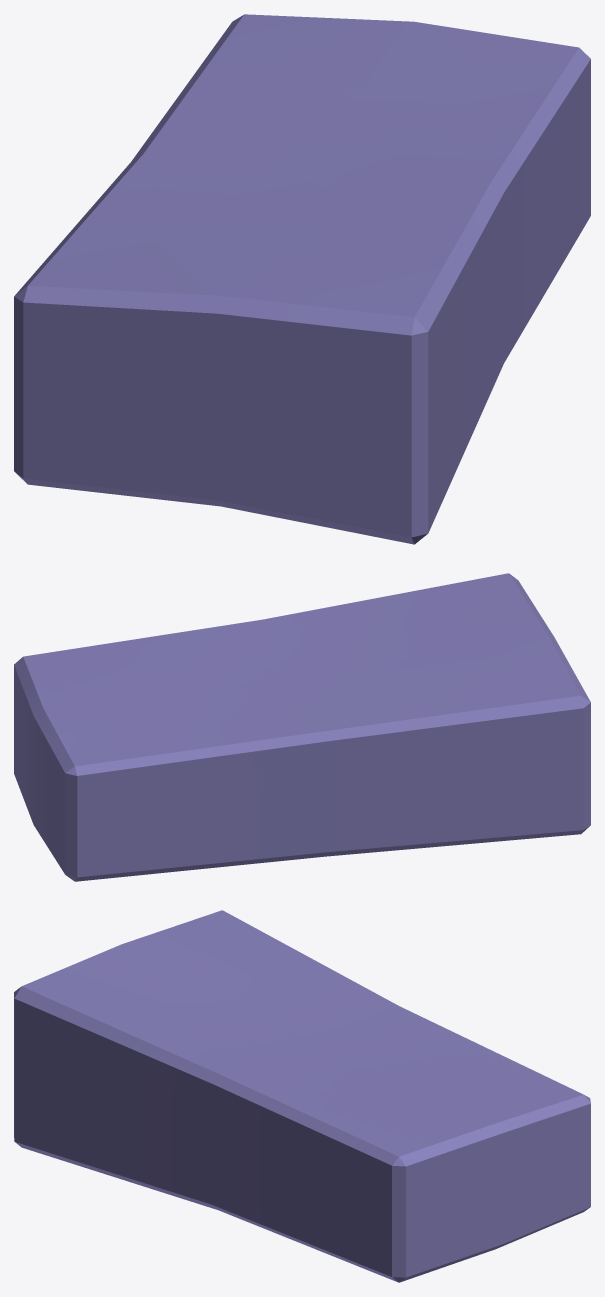
3 views of the same model, one above another, from view 1: azimuth 30°, elevation 25°; view 2: azimuth 150°, elevation 25°; view 3: azimuth 270°, elevation 25° (orthographic). The views are drawn at different scales.
Parts seen in each view (by area): view 1: rectangle; view 2: rectangle; view 3: rectangle.
Boxes of the visible parts, x1=… form: rectangle: x1=14, y1=14, x2=590, y2=544; rectangle: x1=14, y1=573, x2=590, y2=881; rectangle: x1=14, y1=910, x2=590, y2=1282.
Bounding box in the file's own units: 2.59 × 0.8109 × 2.63.
